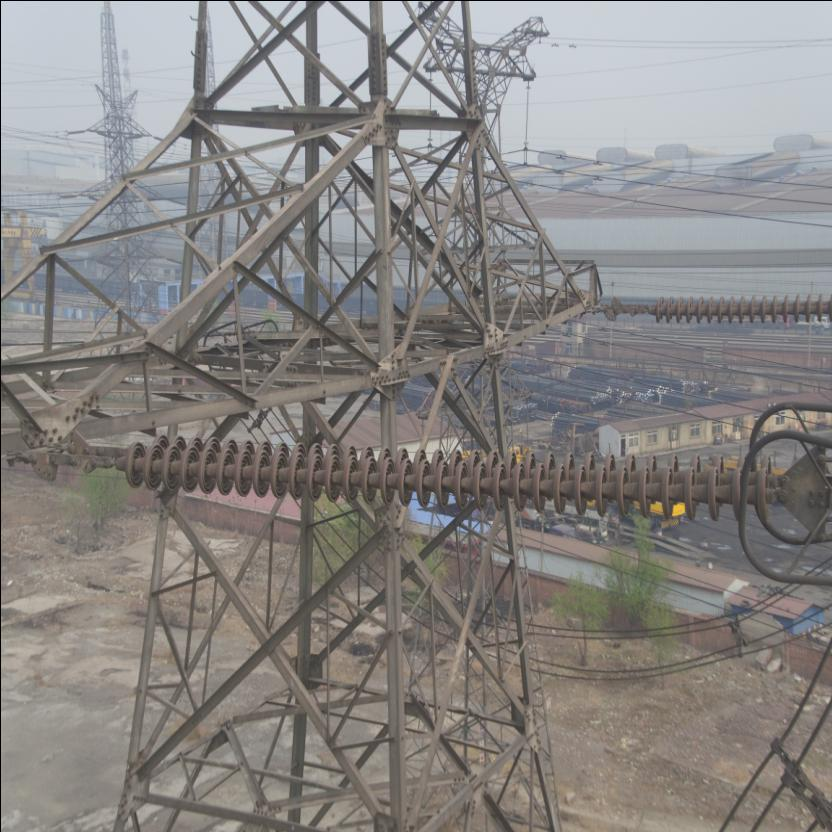insulator: (81, 427, 804, 525), (634, 290, 832, 324)
